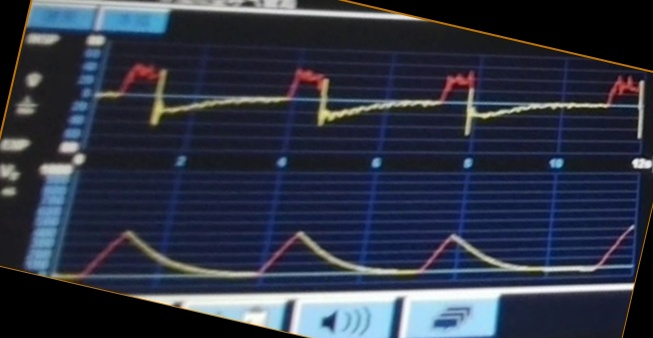Accumulation Flow: (106, 58, 645, 149)
Volume: (72, 199, 633, 283)
